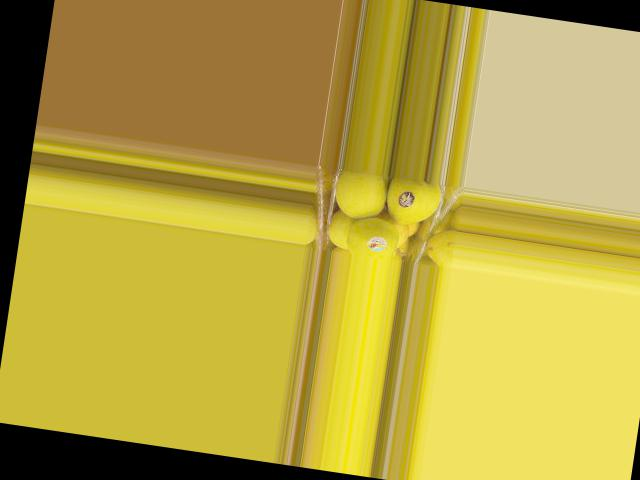apple: (343, 214, 406, 260)
